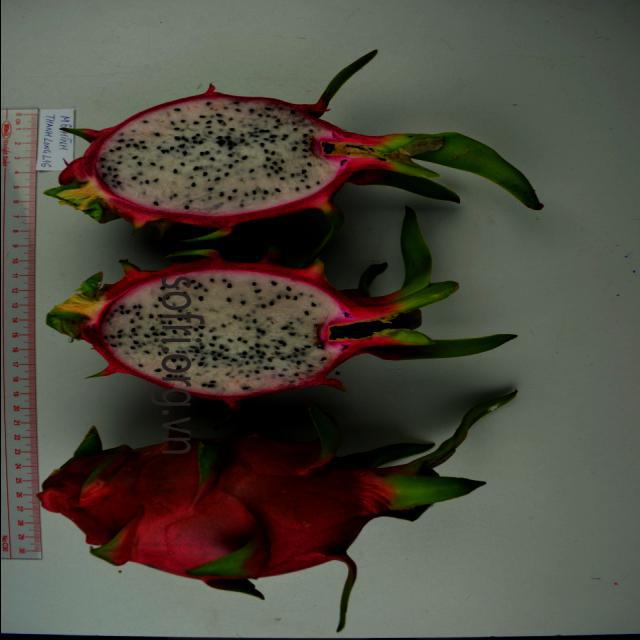trang: (44, 211, 516, 415), (54, 49, 544, 242)
